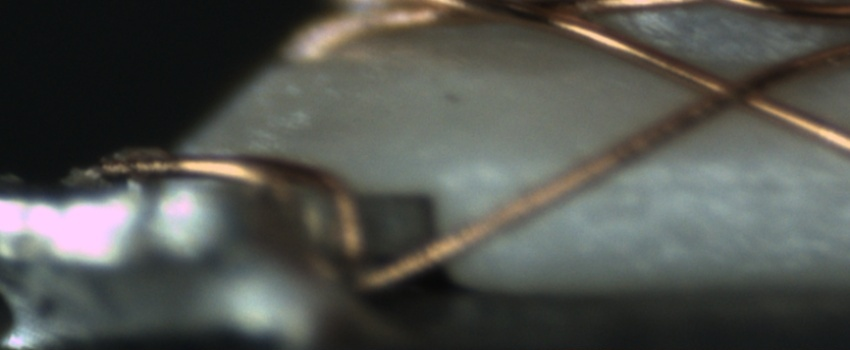CL: (668, 58, 796, 121)
DL: (488, 147, 850, 201)
TE: (92, 143, 374, 278)
